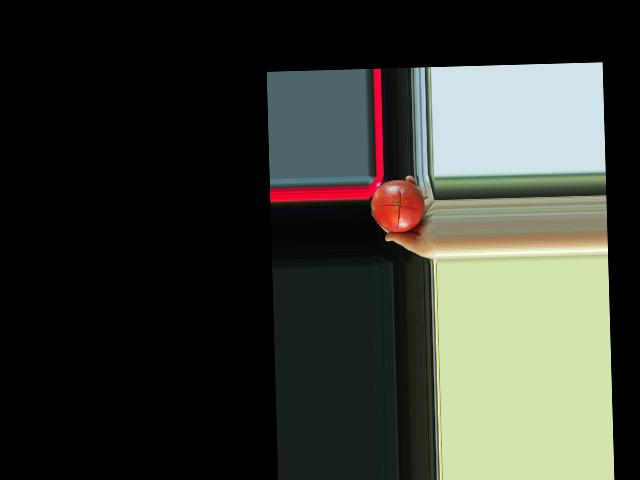tomato: (370, 178, 425, 233)
